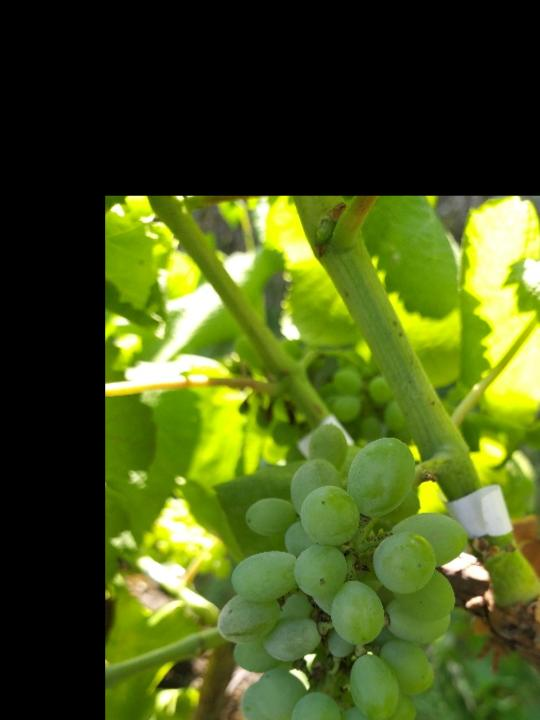grape: (214, 426, 473, 720)
